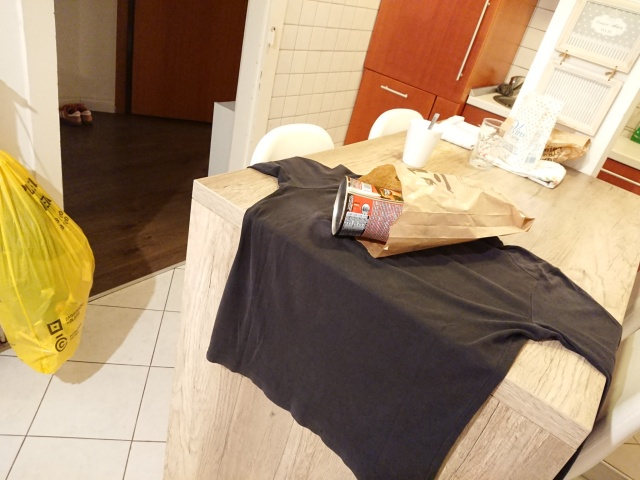Nescafe Classic 225g: (327, 172, 431, 249)
